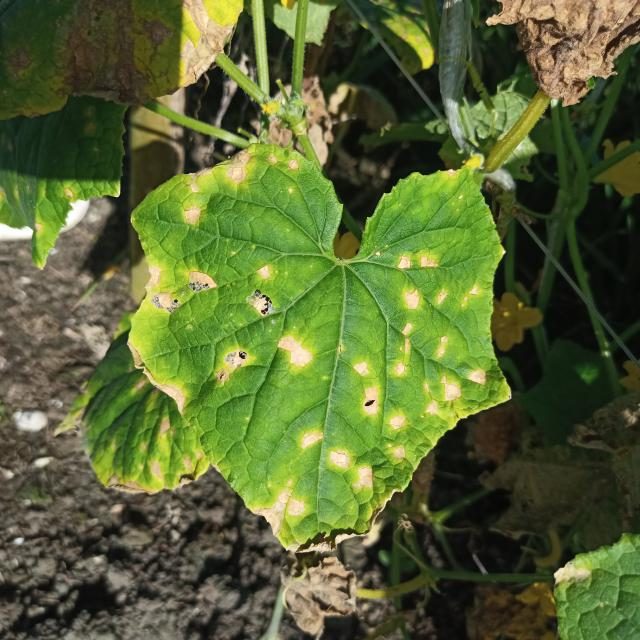disease_cucumber: (142, 148, 490, 534)
